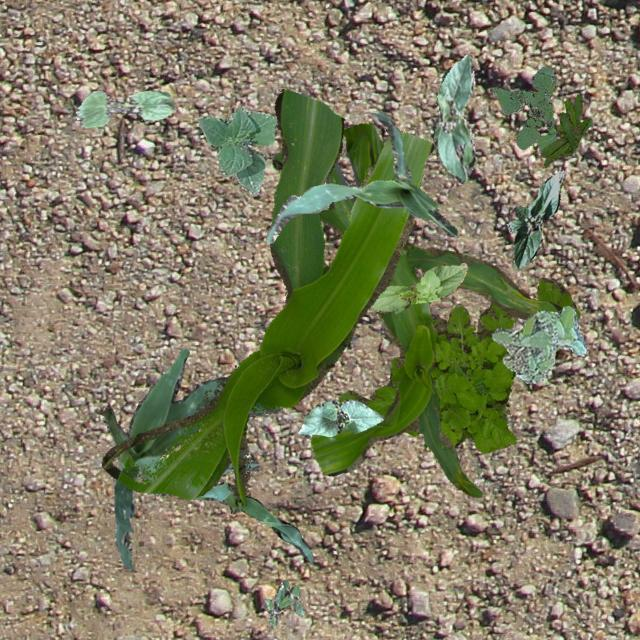crop: (100, 88, 433, 504), (274, 121, 560, 496), (101, 348, 282, 570), (264, 110, 458, 242), (190, 480, 312, 560), (197, 104, 276, 194), (506, 168, 564, 268), (432, 52, 474, 182), (368, 262, 467, 312), (74, 90, 174, 126), (298, 398, 382, 436)
weed: (336, 276, 578, 452), (491, 304, 586, 382), (488, 66, 554, 152), (540, 94, 592, 166), (262, 578, 304, 628)
